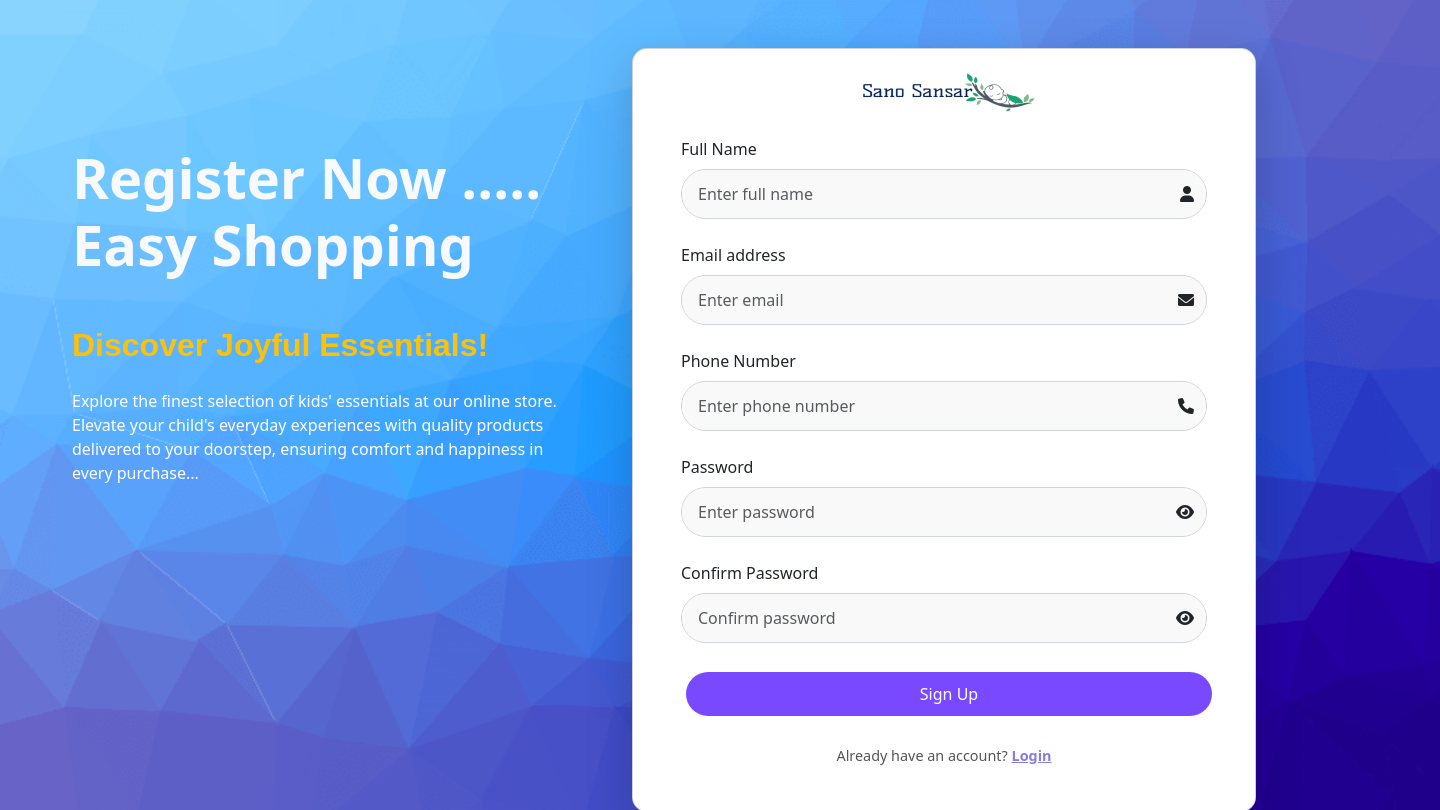
RegisterPage Component Test › should show validation error for invalid phone number
Type "Test User" into the field with placeholder "Enter full name" at {"x": 926, "y": 194}, box [682,170,1169,218]
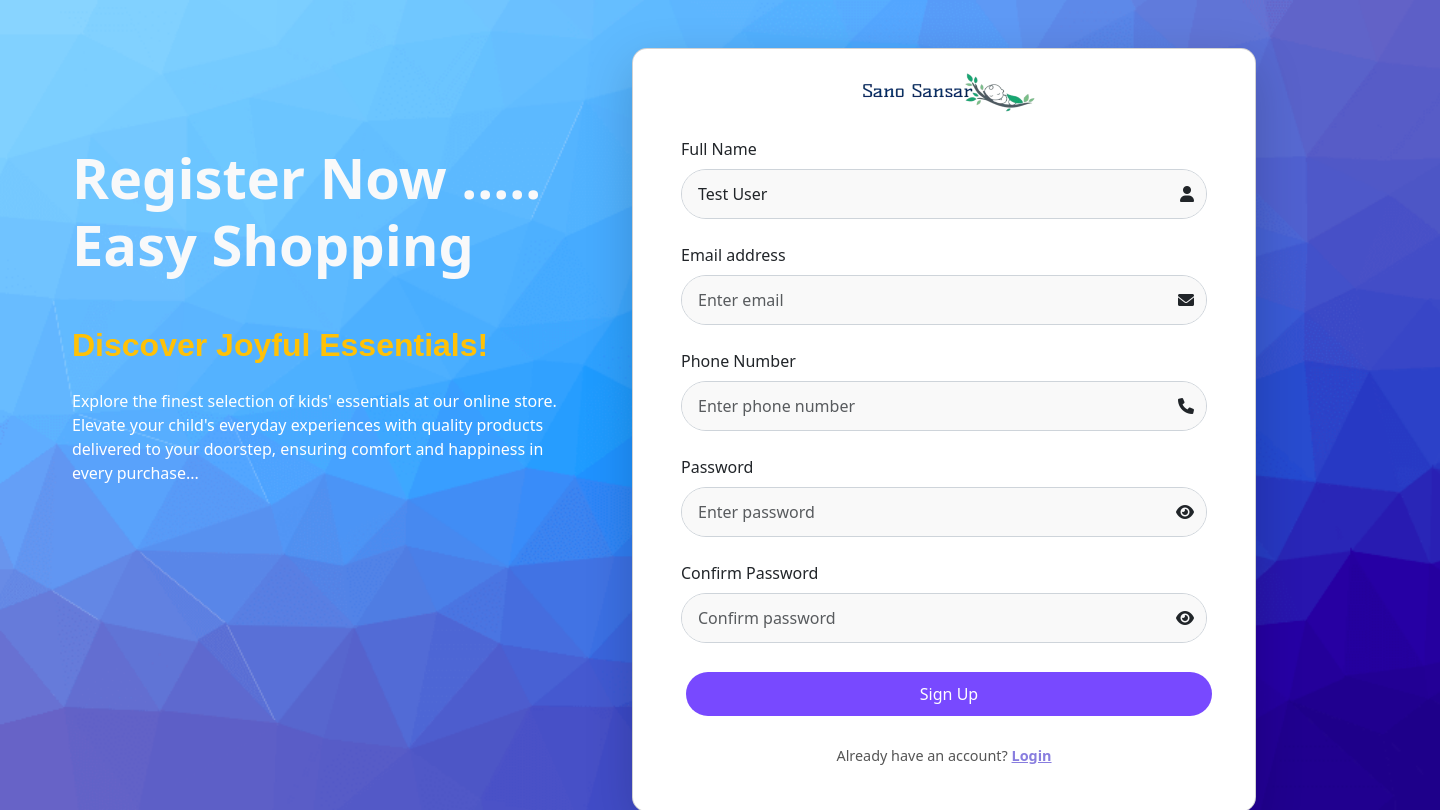
Type "test@gmail.com" into the field with placeholder "Enter email" at {"x": 924, "y": 300}, box [682,276,1167,324]
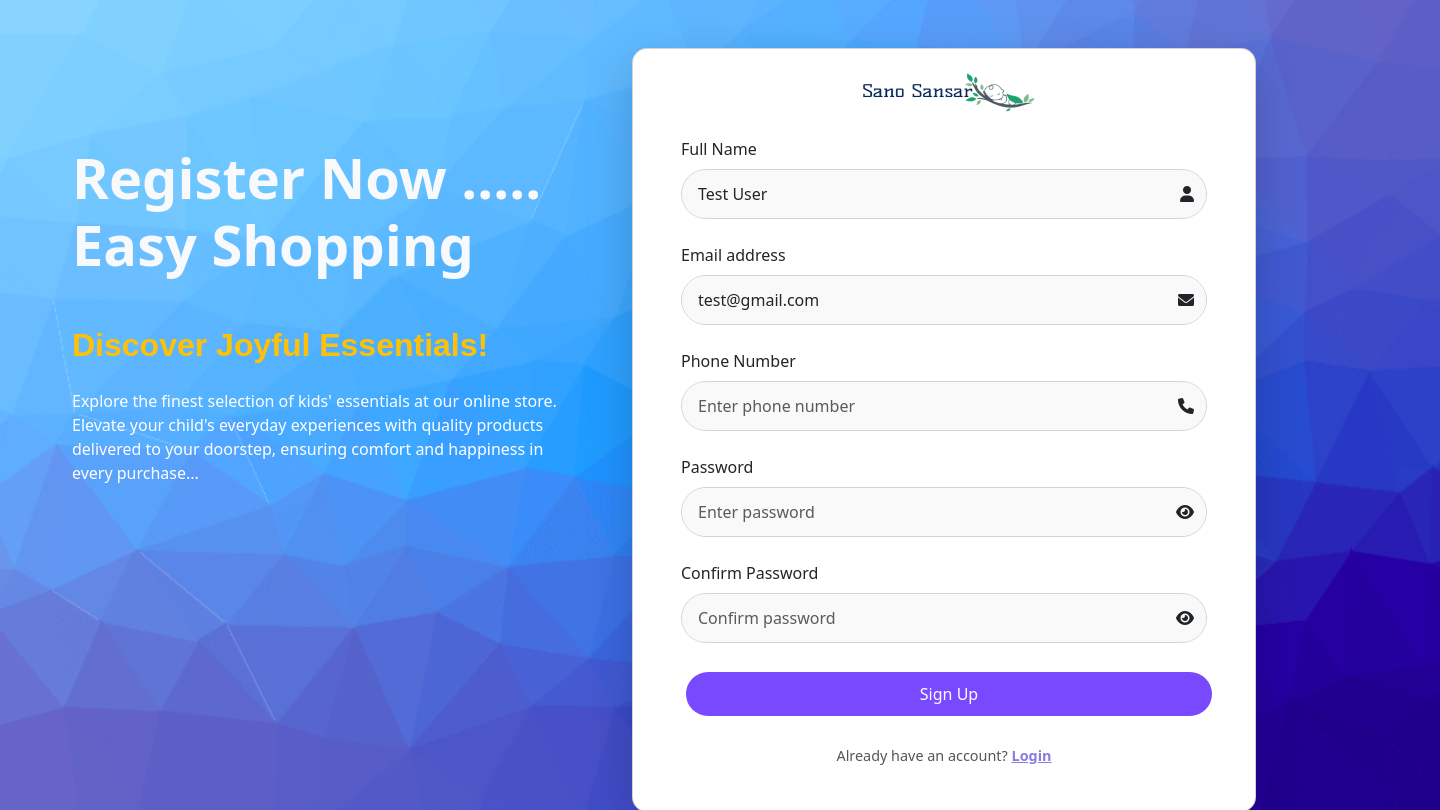
Type "12345" into the field with placeholder "Enter phone number" at {"x": 924, "y": 406}, box [682,382,1167,430]
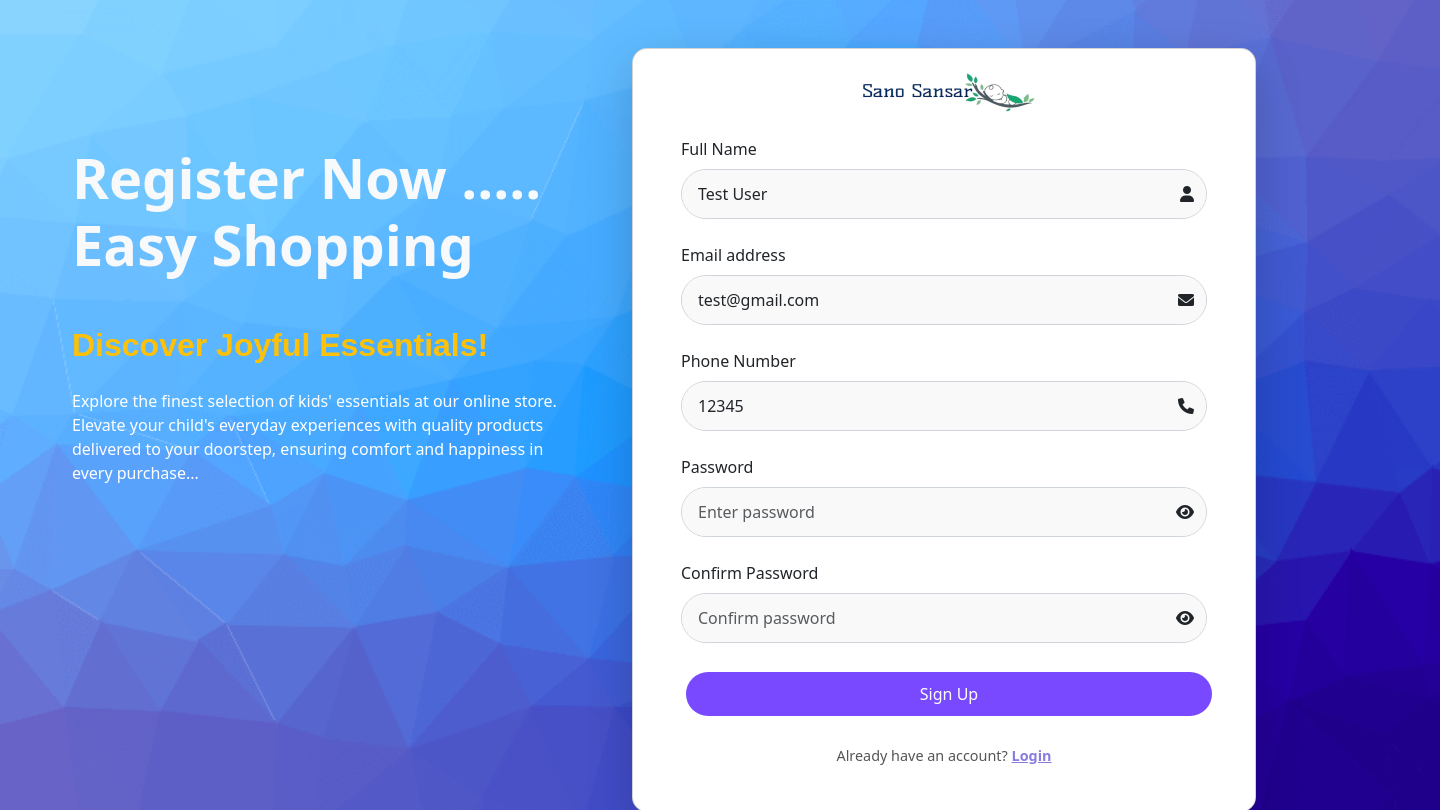
Type "Test@123" into the password field with placeholder "Enter password" at {"x": 924, "y": 512}, box [682,488,1165,536]
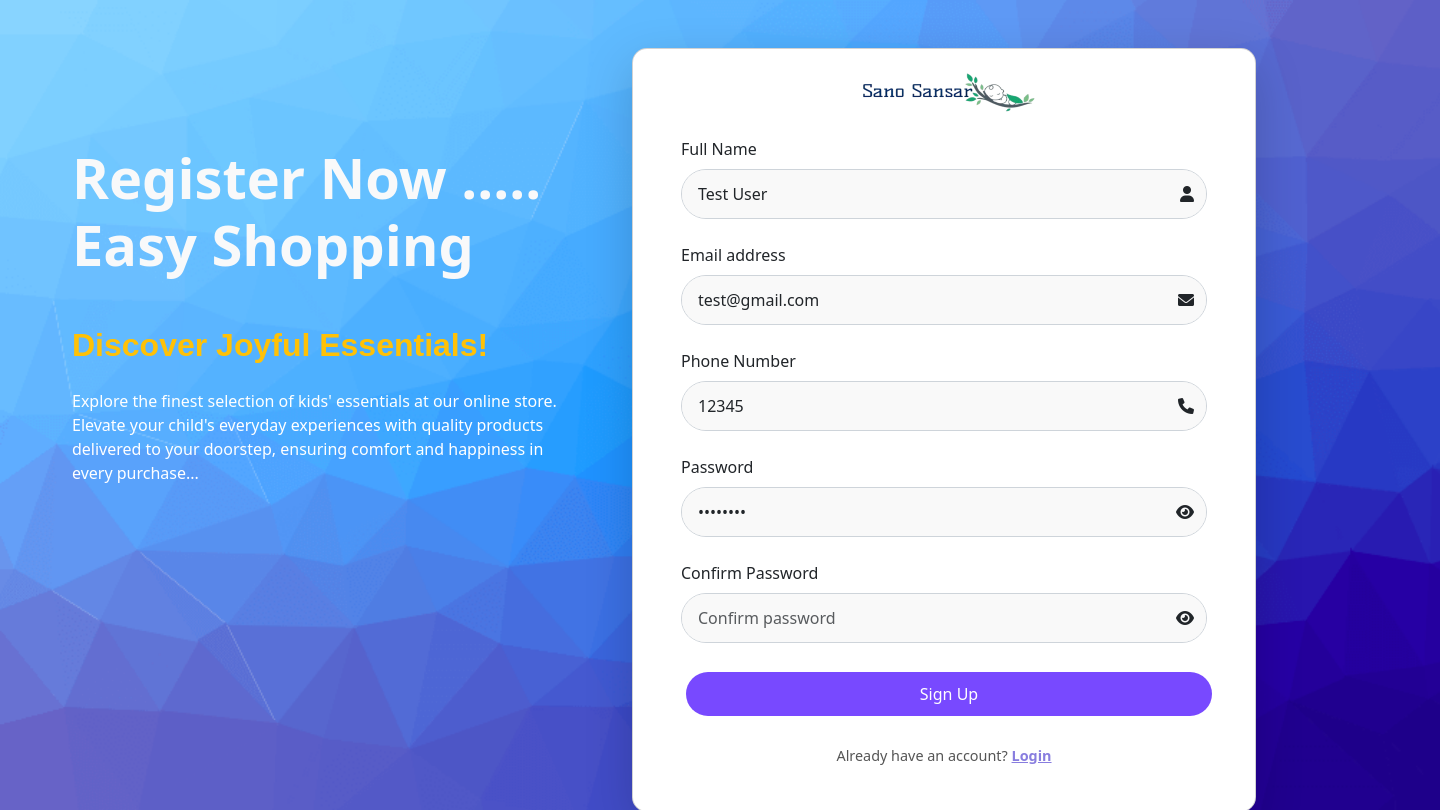
Type "Test@123" into the password field with placeholder "Confirm Password" at {"x": 924, "y": 618}, box [682,594,1165,642]
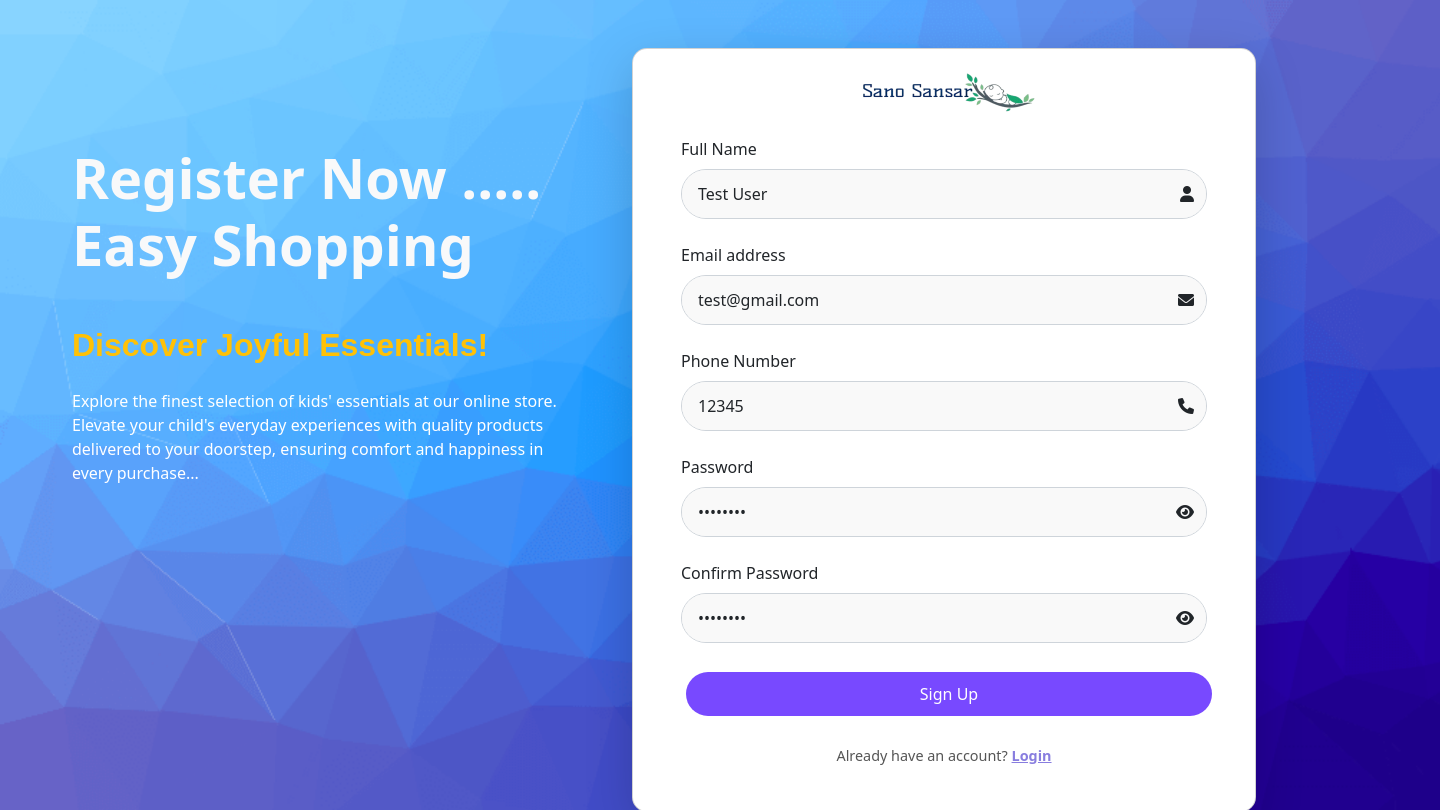
Click the button "Sign Up" at {"x": 949, "y": 694}, box [686,672,1212,716]
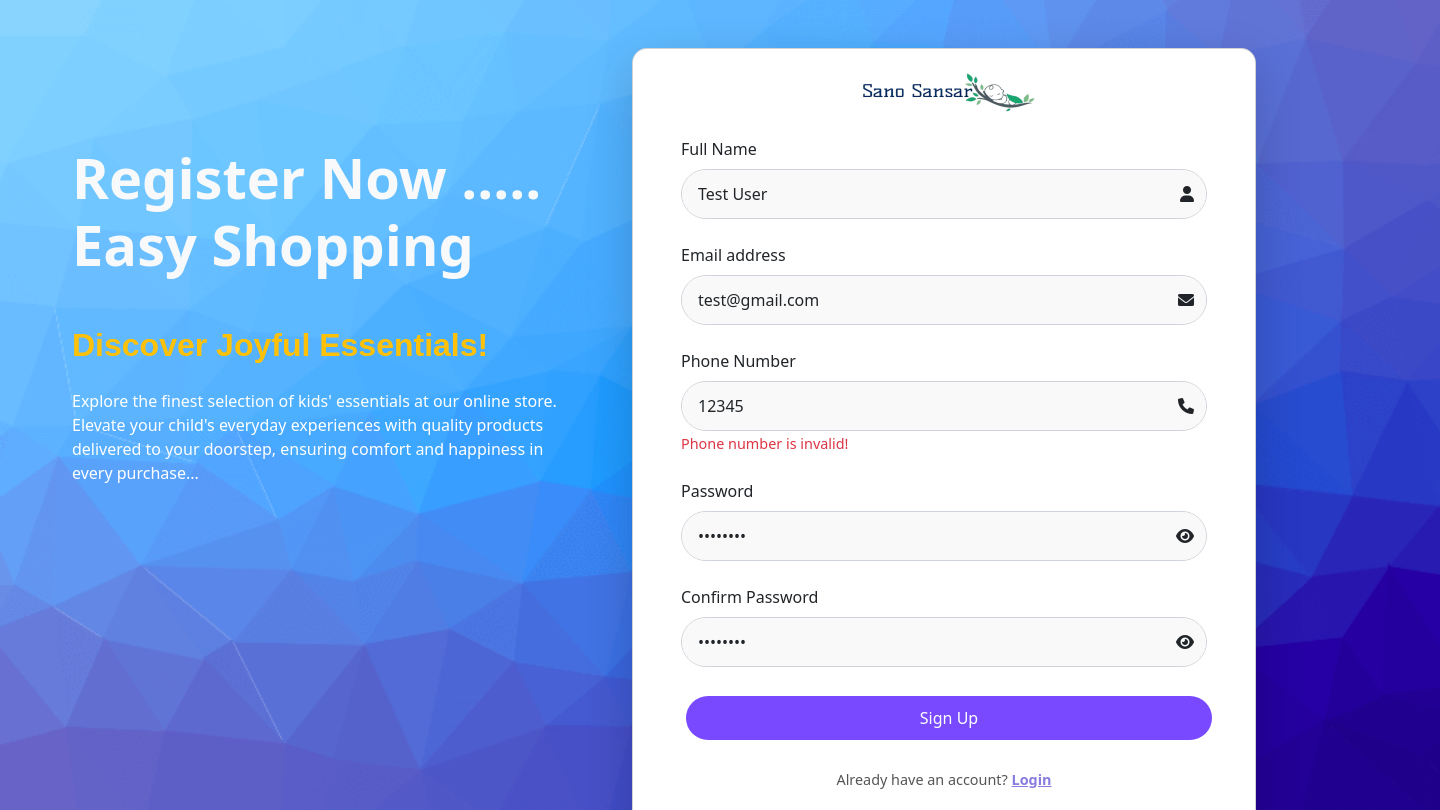
Check: the text "Phone number is invalid!" is shown, box [681,434,848,453]
